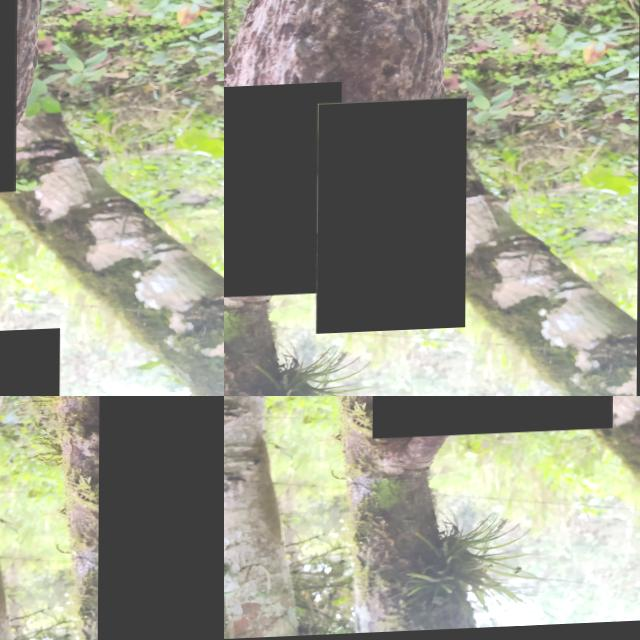Fitoftora: (317, 102, 467, 337), (0, 332, 60, 396)
Monilia: (98, 396, 224, 640), (224, 84, 341, 305)
Sana: (332, 0, 434, 123)
